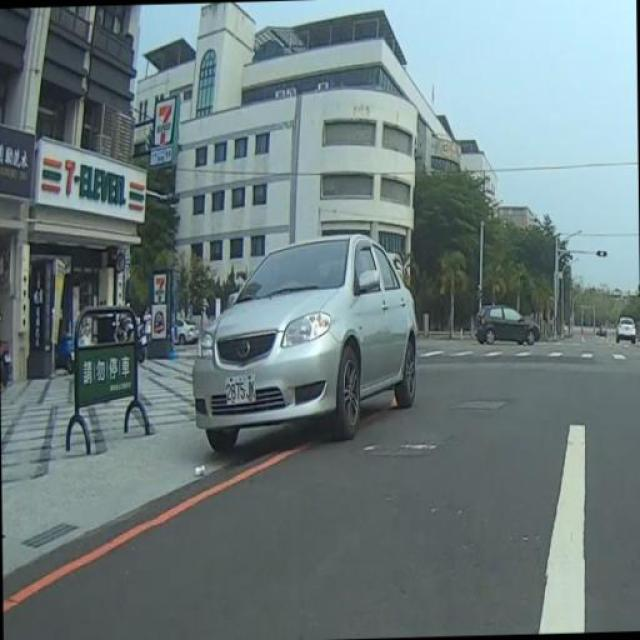Legalparking: (162, 217, 478, 494)
